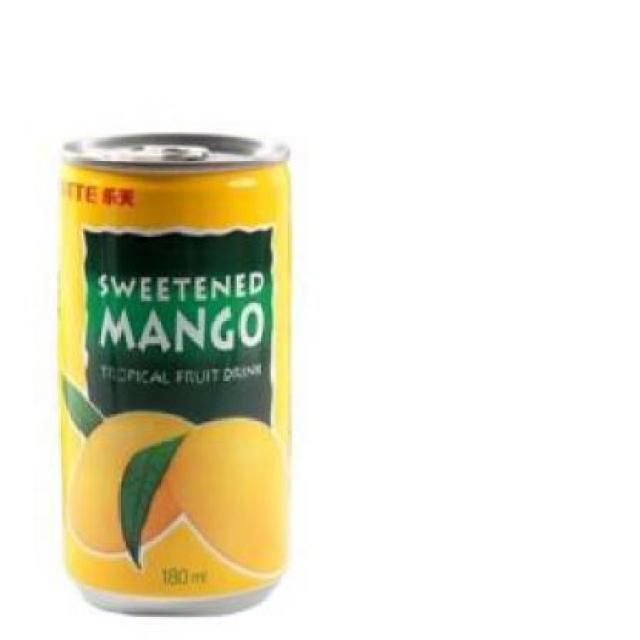non-organic waste: (31, 91, 324, 629)
